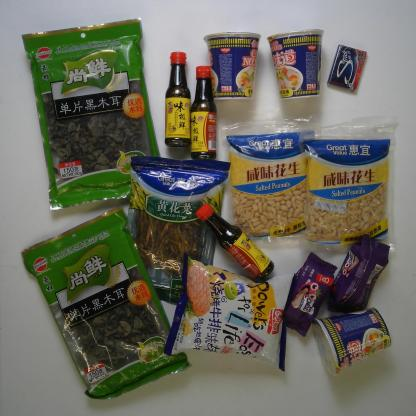Dessert: (326, 232, 391, 316), (282, 251, 339, 339)
Dried Food: (19, 202, 194, 402), (18, 15, 162, 212), (125, 155, 232, 306)
Dried Fruit: (296, 112, 401, 255), (220, 107, 322, 250)
Gum: (326, 42, 369, 94)
Instant Noodles: (310, 305, 394, 377), (265, 28, 326, 102), (202, 30, 262, 102)
Puffed Food: (162, 251, 297, 374)
Seasoner: (194, 201, 275, 284), (189, 63, 219, 162), (164, 50, 192, 149)
